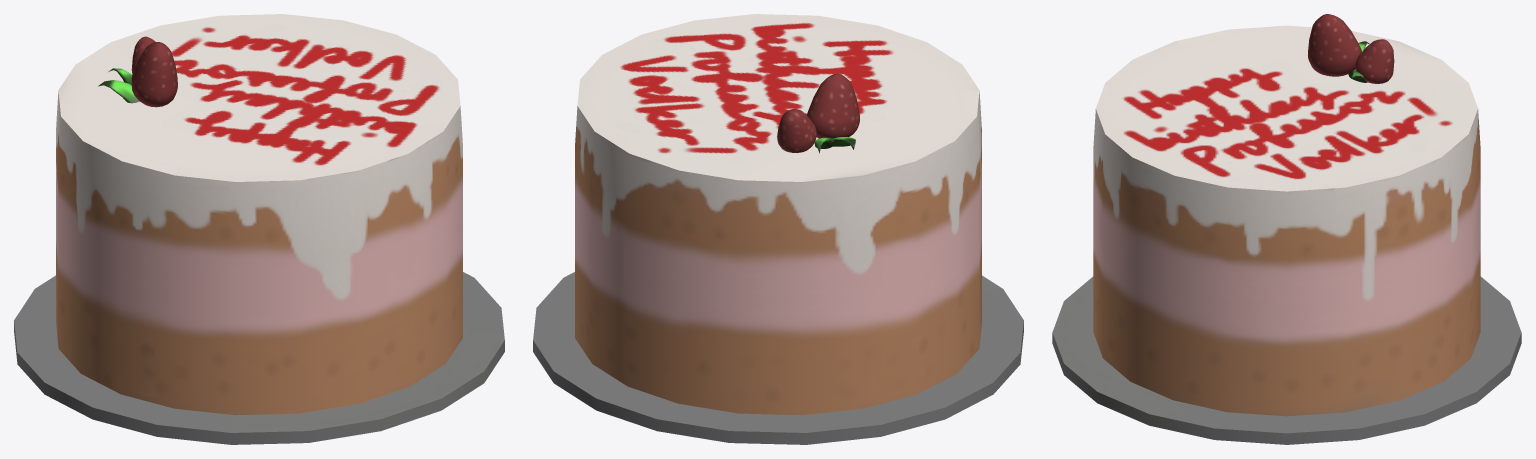
Rendered from cake.fbx.
The picture shows the model from 3 angles, left to right: view 1: azimuth 30°, elevation 25°; view 2: azimuth 150°, elevation 25°; view 3: azimuth 270°, elevation 25°; orthographic projection. The views are drawn at different scales.
Visible parts, largest first — view 1: pCylinder3; view 2: pCylinder3; view 3: pCylinder3.
Boxes of the visible parts, x1,y1,x2,y2 form: pCylinder3: [14, 14, 504, 444]; pCylinder3: [533, 14, 1023, 444]; pCylinder3: [1052, 14, 1521, 444].
Bounding box in the file's own units: 15.24 × 10.25 × 14.94.
1 material, 1 textured.
